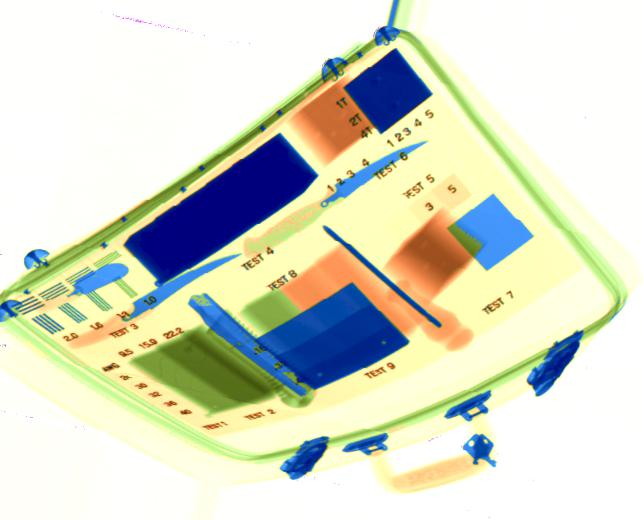Knife: (242, 139, 429, 257), (68, 253, 242, 351), (36, 261, 129, 314)
